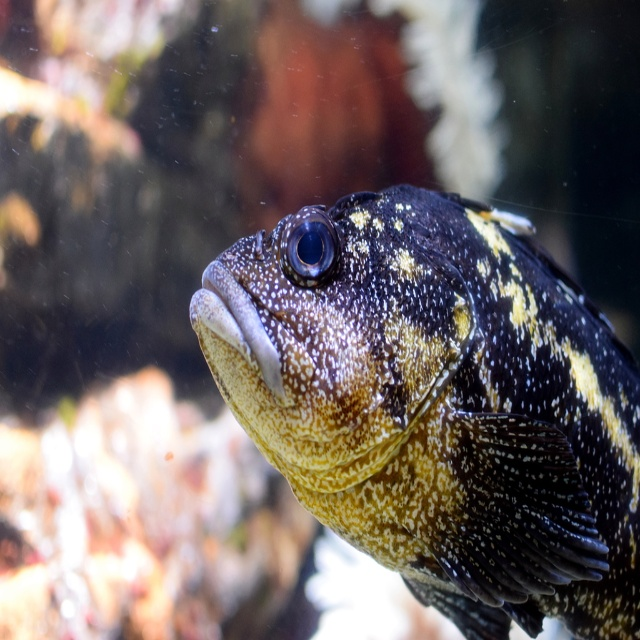Fish: (194, 154, 618, 640)
